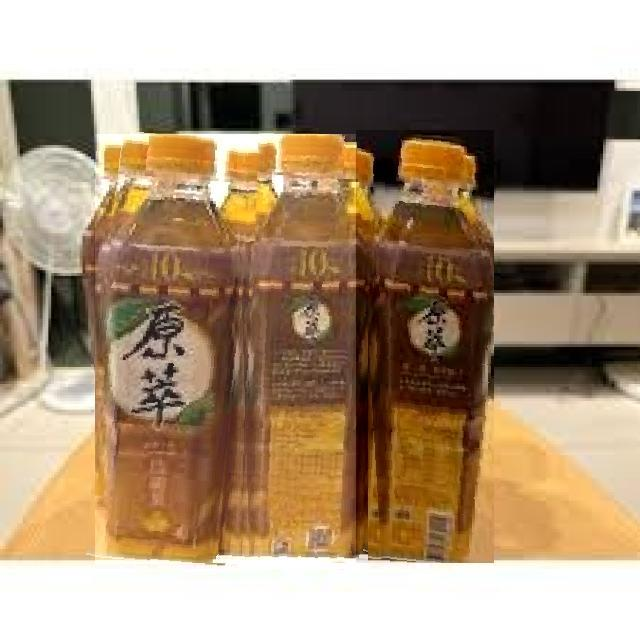RiYue_BlackTea: (95, 134, 253, 564), (356, 130, 494, 563), (237, 134, 368, 569)
